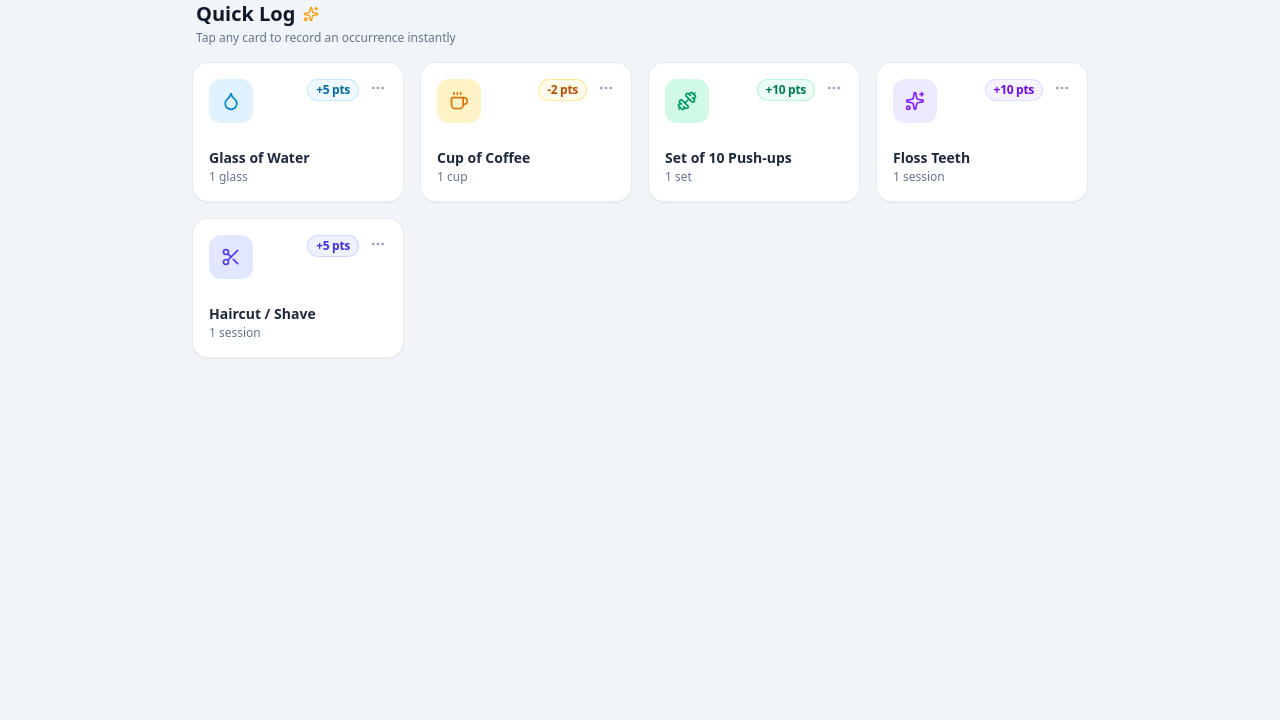
Scenario: LogView › opens quantity stepper bottom sheet when custom quantity button is clicked and logs custom occurrence
Expected: the element showing "+10 pts Set of 10 Push-ups 1 set" is shown, [648,62,860,202]
Click the button with test id "custom-quantity-button" at x=834, y=88, box [822,76,846,100]
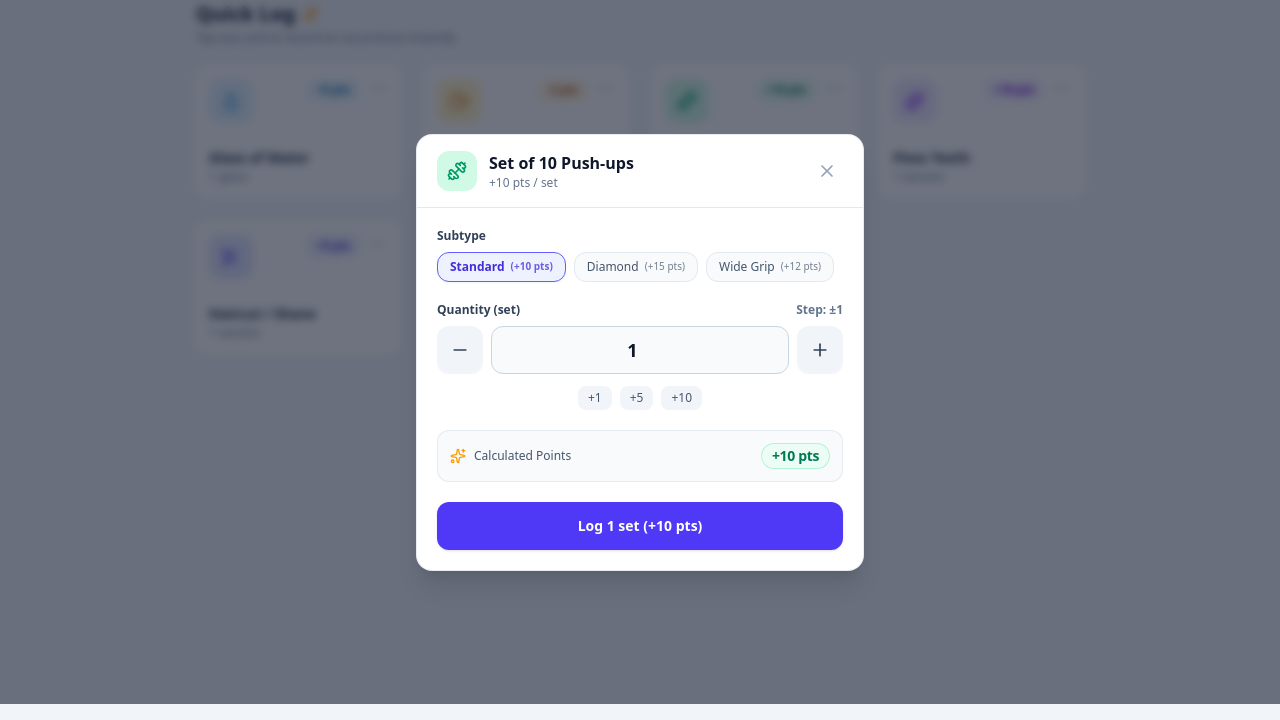
Expected: the dialog is shown
Input custom quantity: 3
Replace the text in the number field with test id "quantity-input" with "3" at x=640, y=350, box [491,326,789,374]
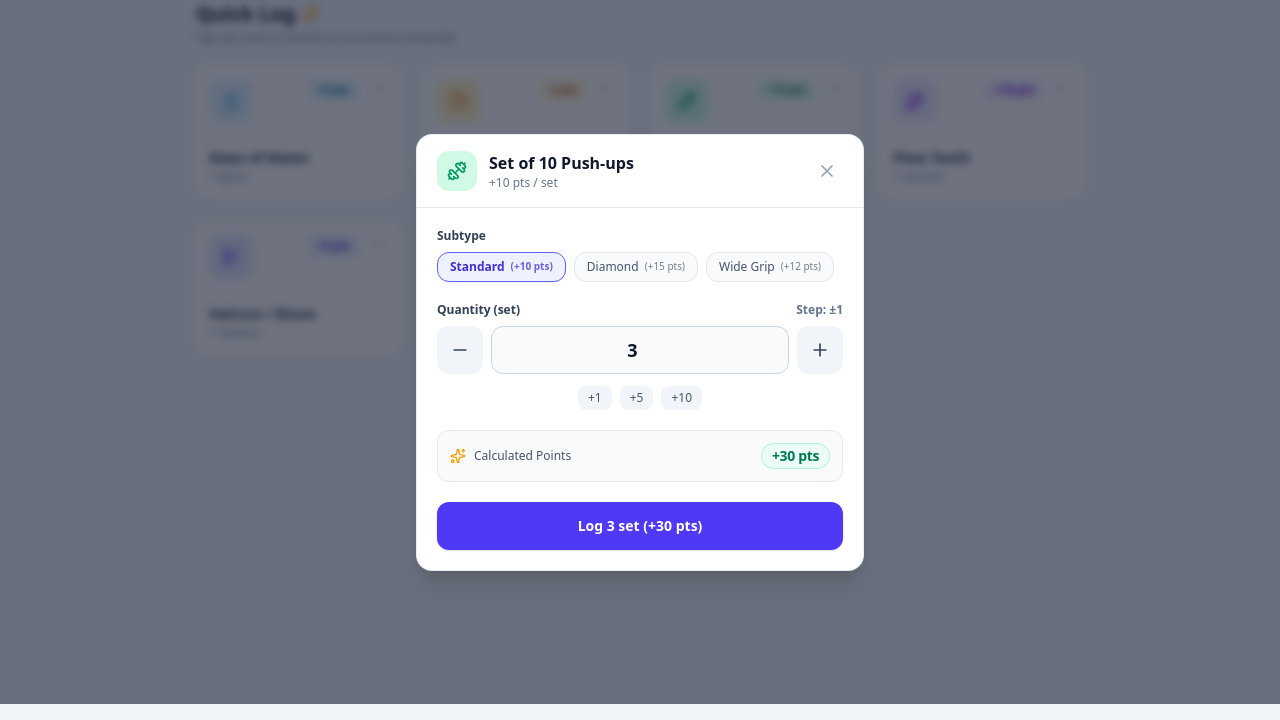
Submit form
Submit the form, box [417,208,863,570]
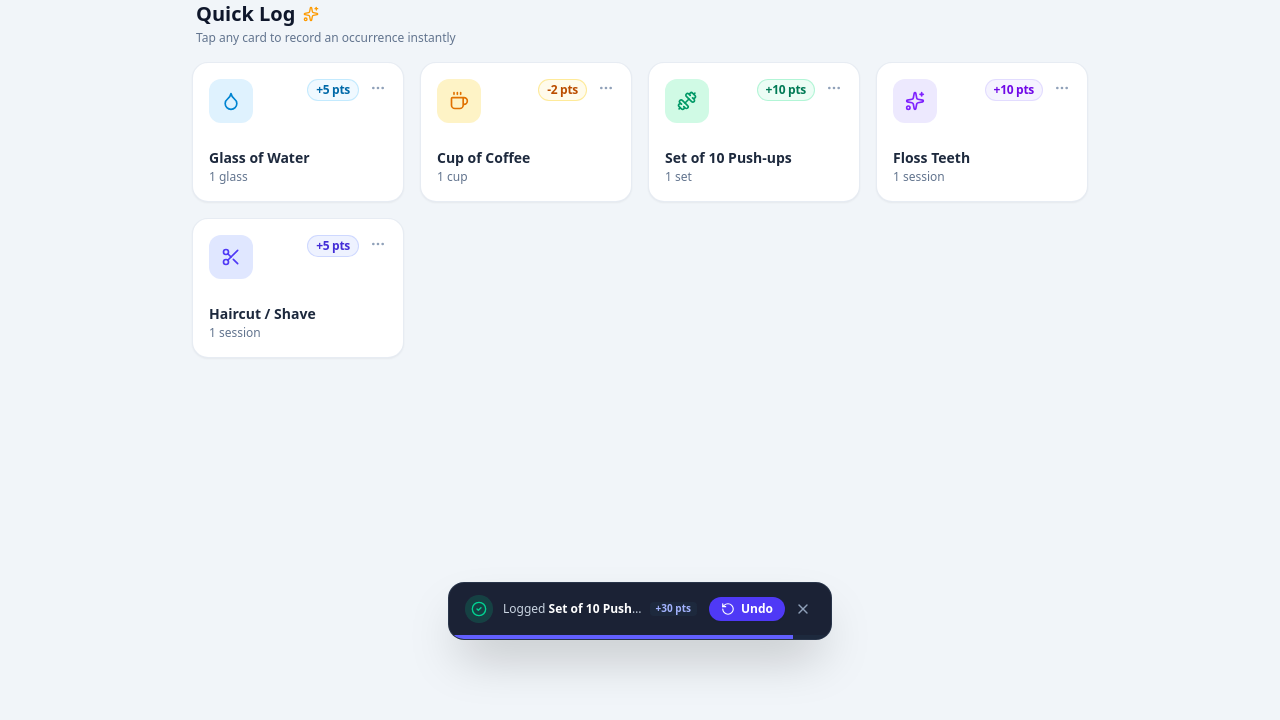
Expected: the text "+30 pts" is shown, [650,602,697,616]
Expected: the message "Logged Set of 10 Push-ups +30 pts Undo" is shown, [448,582,832,640]
